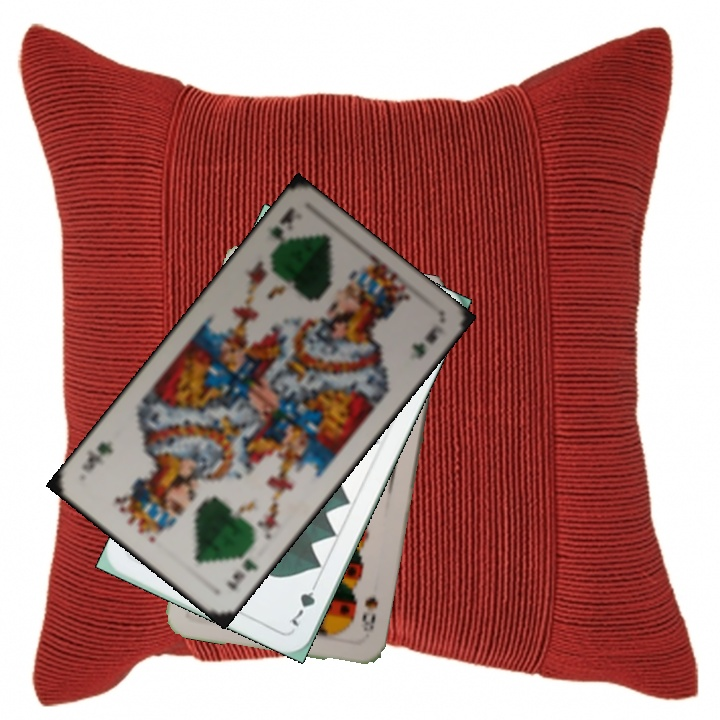G7: (286, 575, 321, 629)
GK: (222, 554, 261, 593), (266, 203, 298, 243)
S8: (357, 593, 381, 635)
